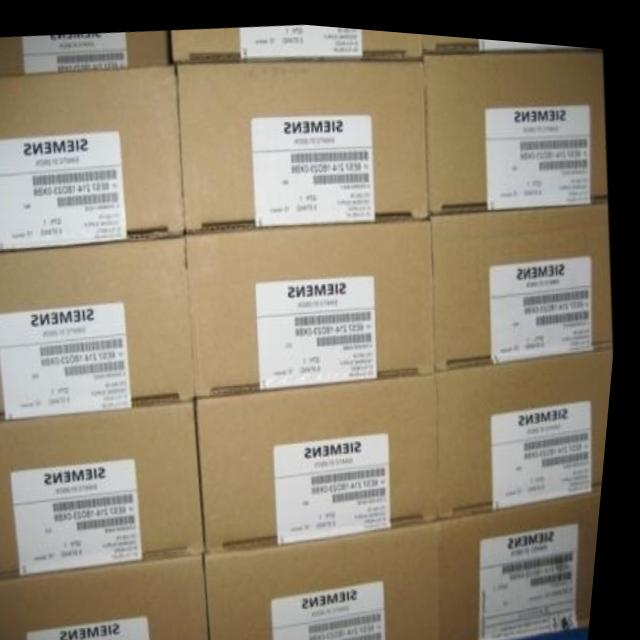box: (188, 204, 441, 393), (202, 365, 447, 548), (177, 52, 433, 225), (0, 393, 215, 580), (0, 229, 202, 419), (0, 60, 189, 250), (432, 191, 617, 362), (423, 38, 610, 206), (441, 335, 618, 510), (214, 510, 450, 640), (447, 477, 610, 640), (0, 548, 222, 640), (172, 20, 423, 61), (0, 27, 169, 76), (422, 27, 597, 45)
